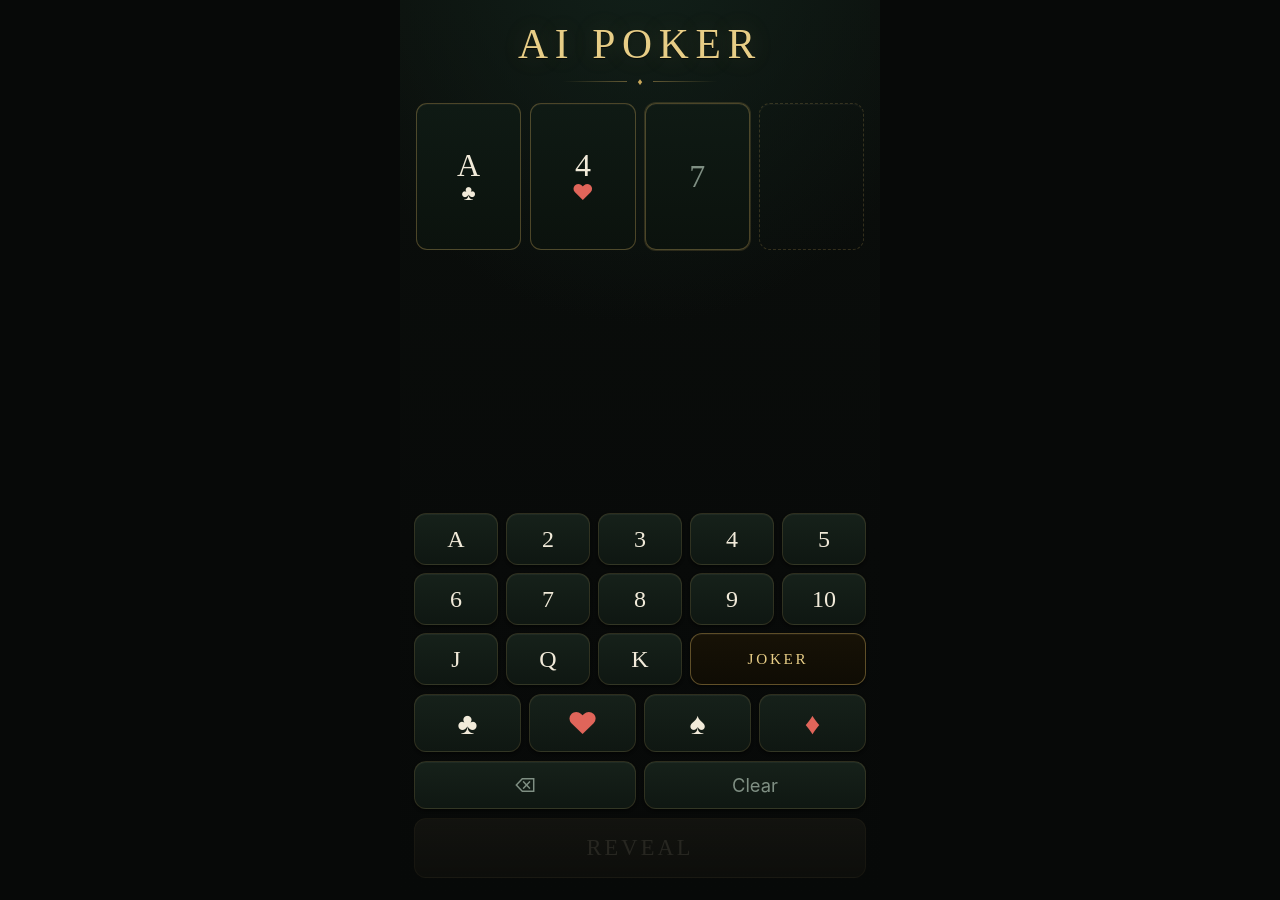
Test: reveal flows › force group AC,4H,7S,KC reveals Ten of Diamonds; No leads to re-enter (no correction)
Earlier steps of the test are not shown.
Click the button "♠": x=698, y=723 [644, 694, 751, 752]
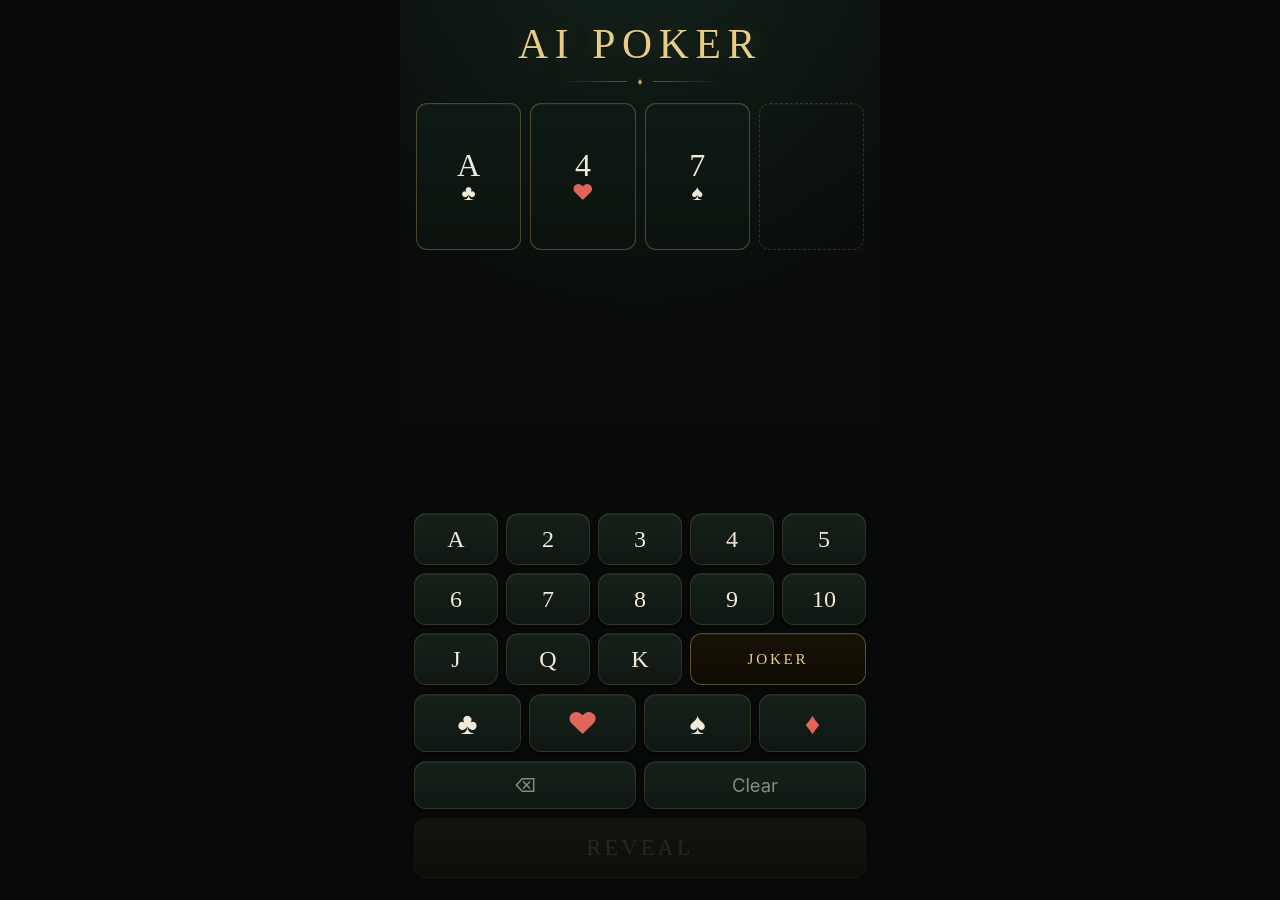
Click the button "K": x=640, y=659 [598, 633, 682, 685]
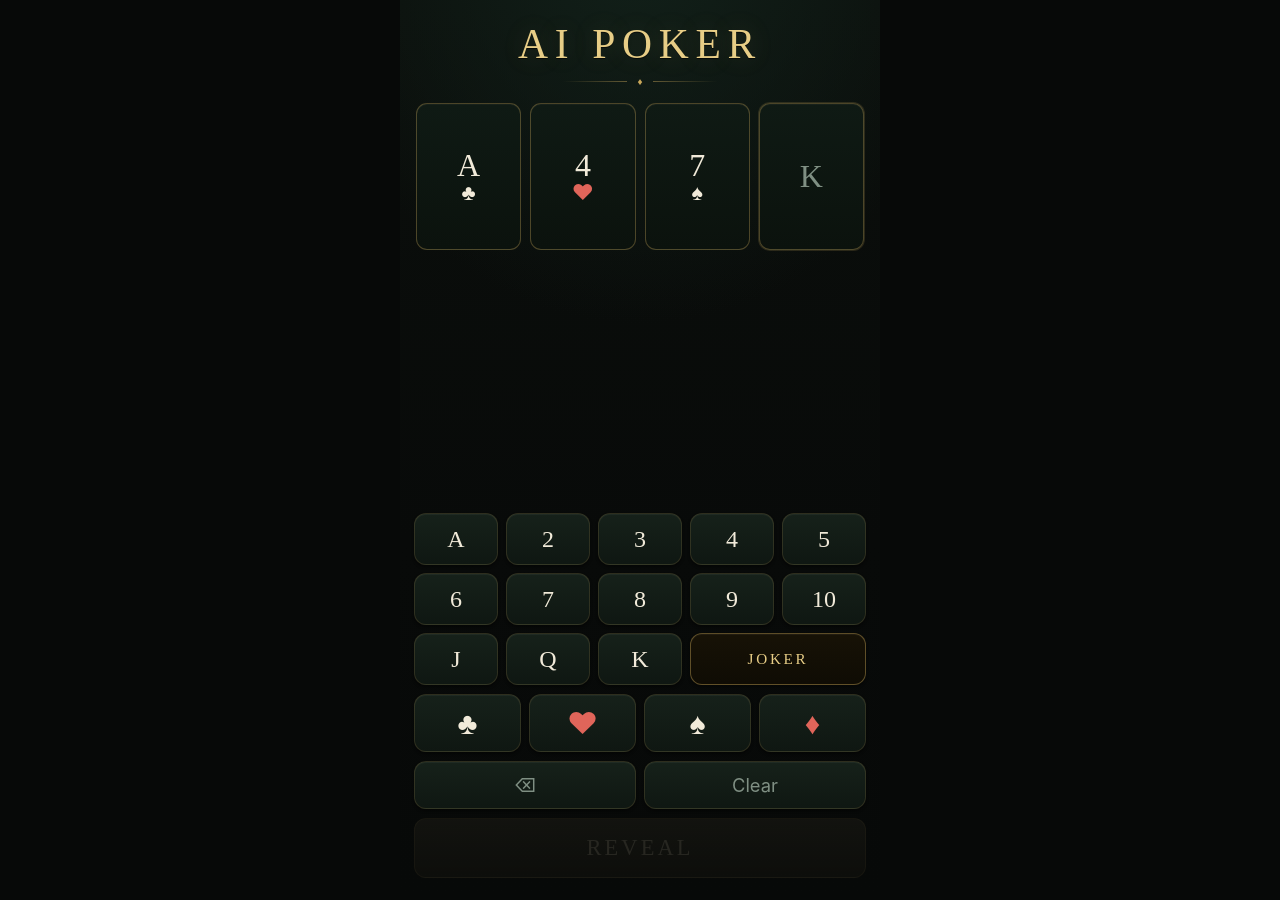
Click the button "♣": x=468, y=723 [414, 694, 521, 752]
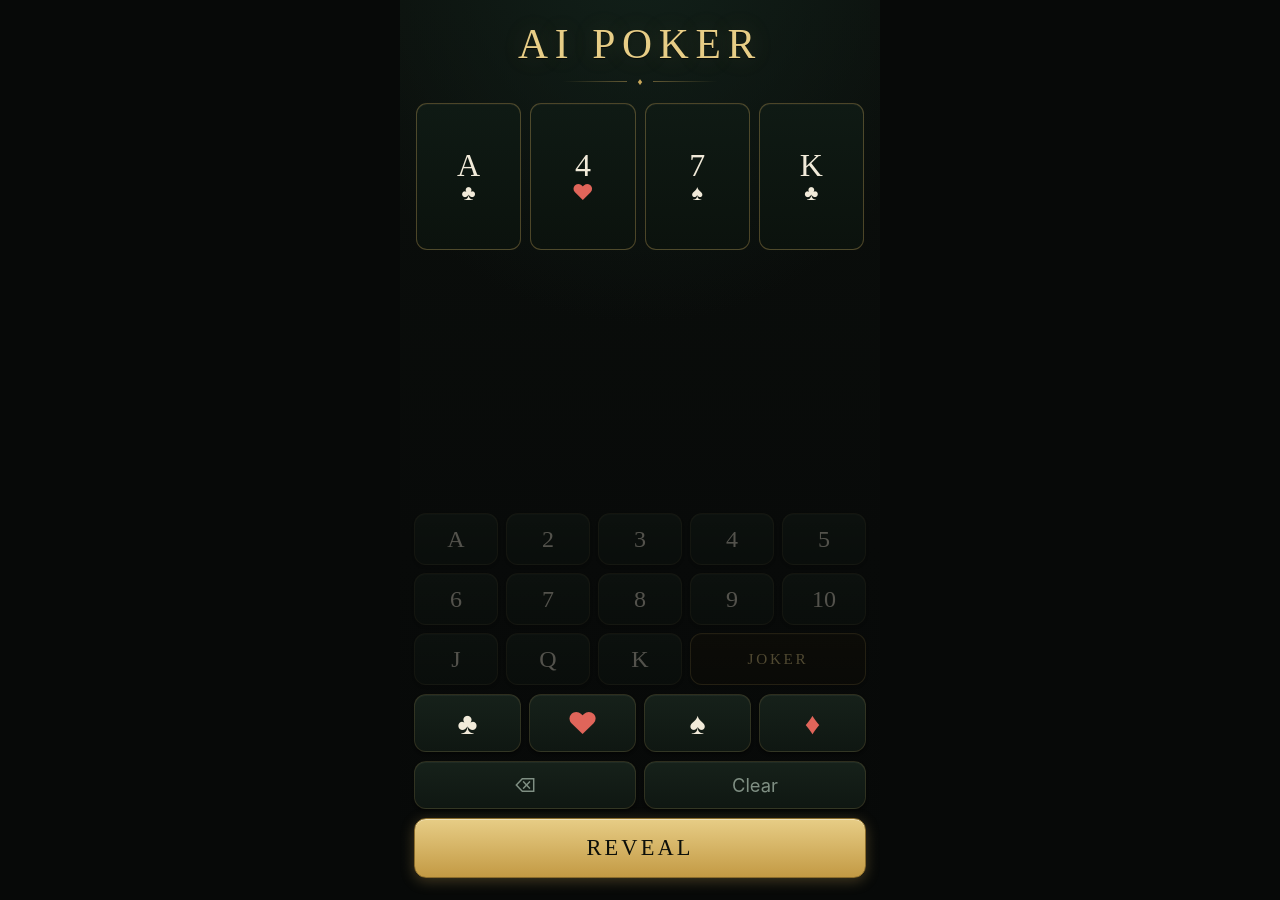
Click the button "Reveal": x=640, y=848 [414, 818, 866, 878]
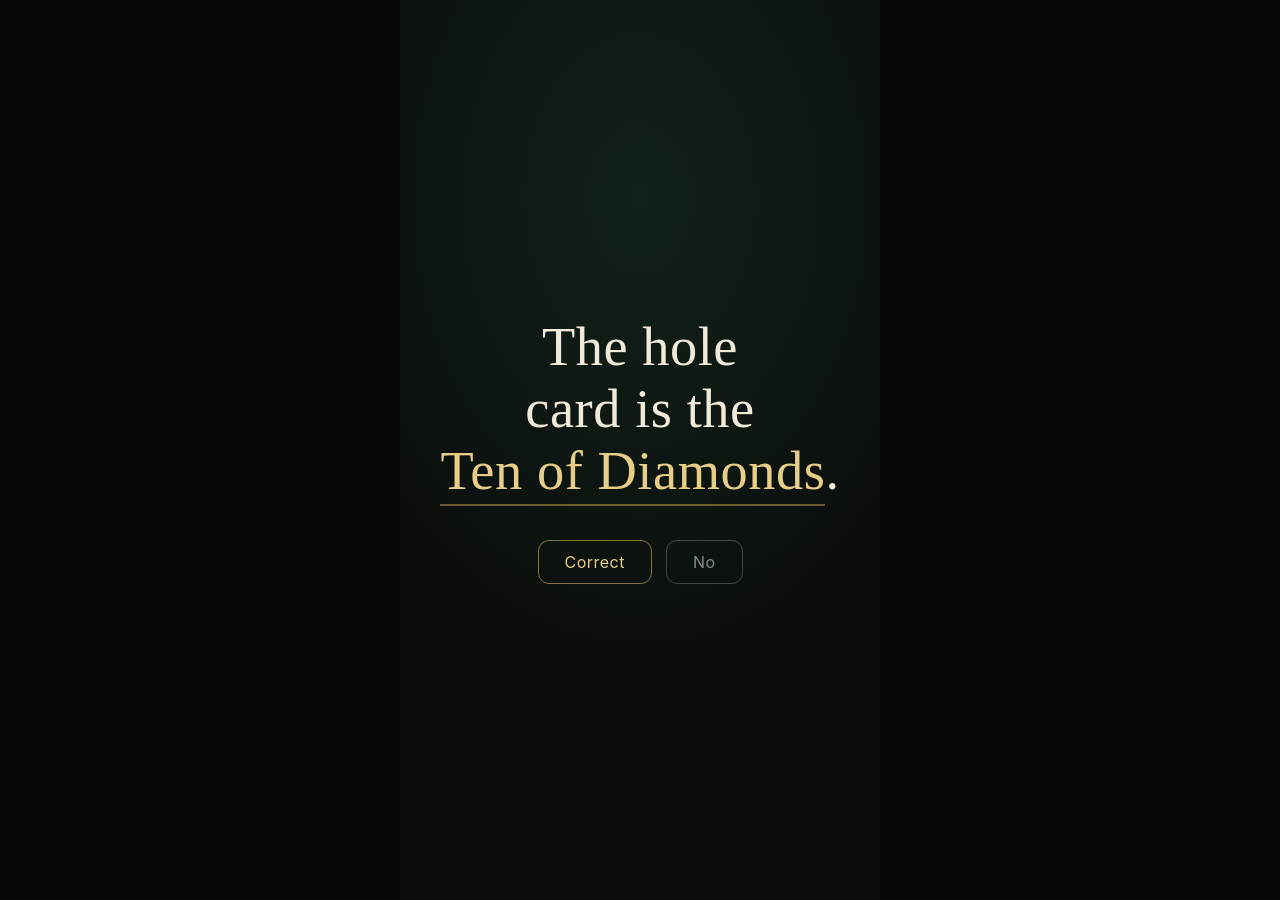
Result: the text "Ten of Diamonds" is shown at [440, 440, 825, 506]
Click the button "No": x=704, y=562 [666, 540, 742, 584]
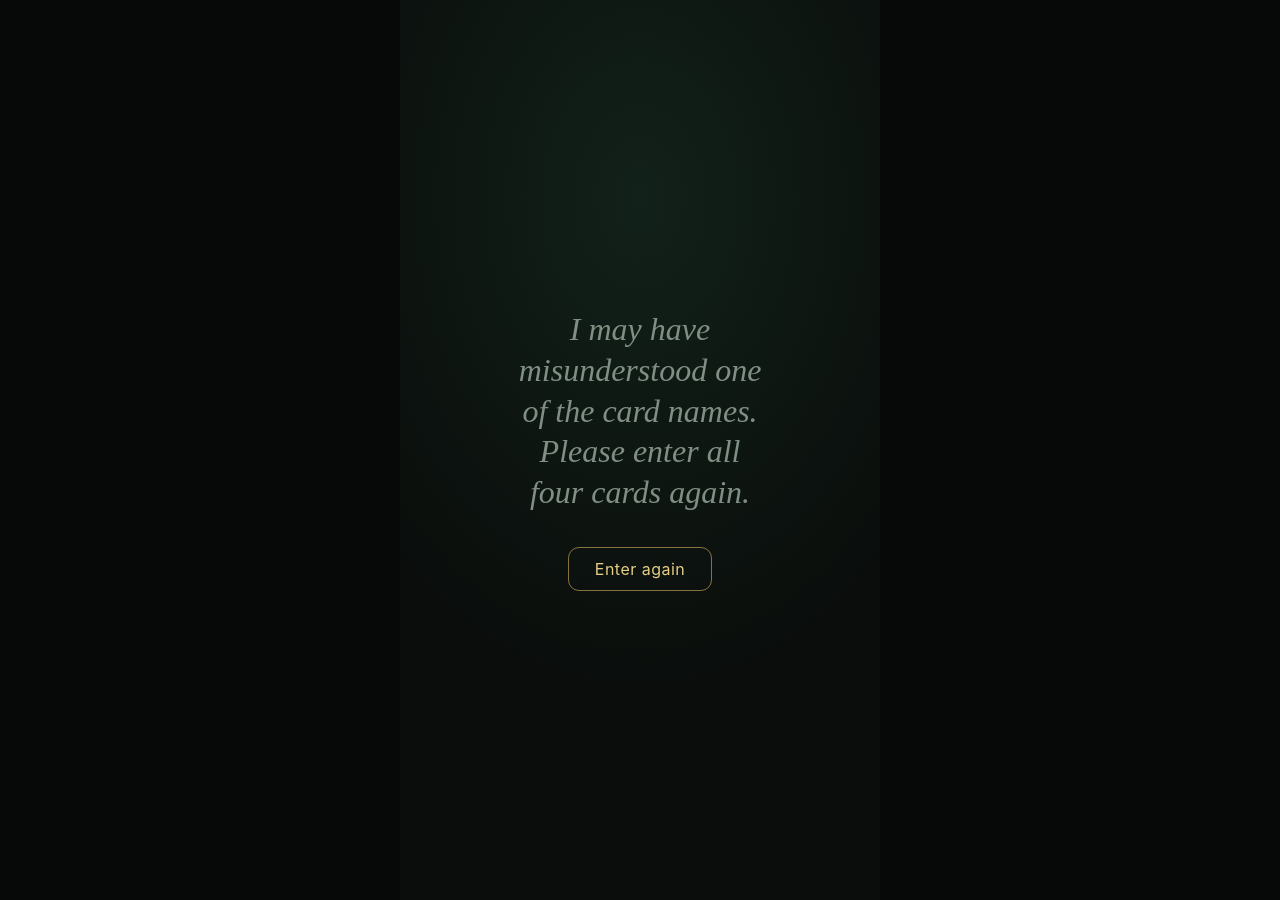
Result: the text "misunderstood one of the card names" is shown at [519, 311, 761, 510]
Click the button "Enter again": x=640, y=569 [568, 547, 712, 591]
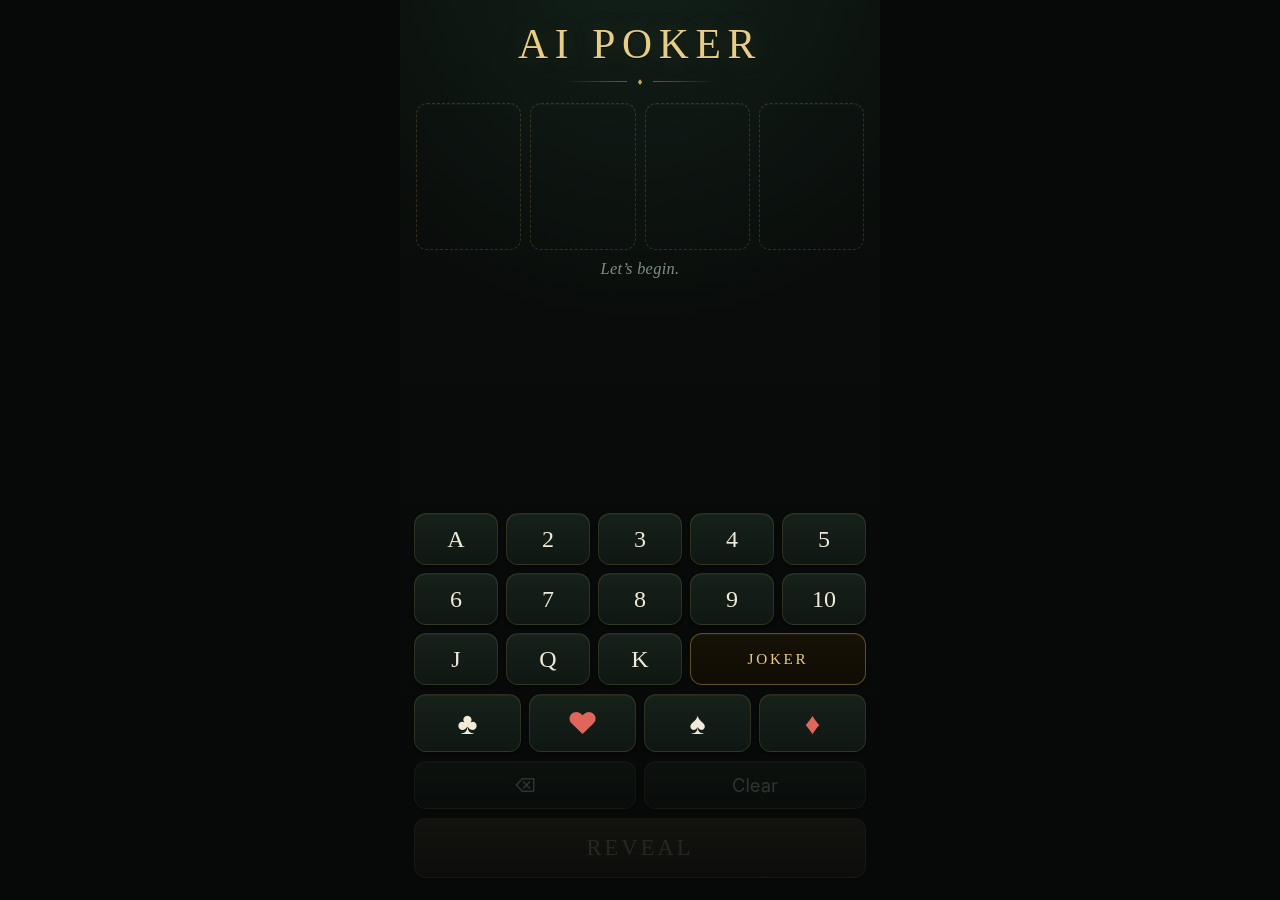
Result: the text "Let’s begin." is shown at [601, 259, 679, 279]
